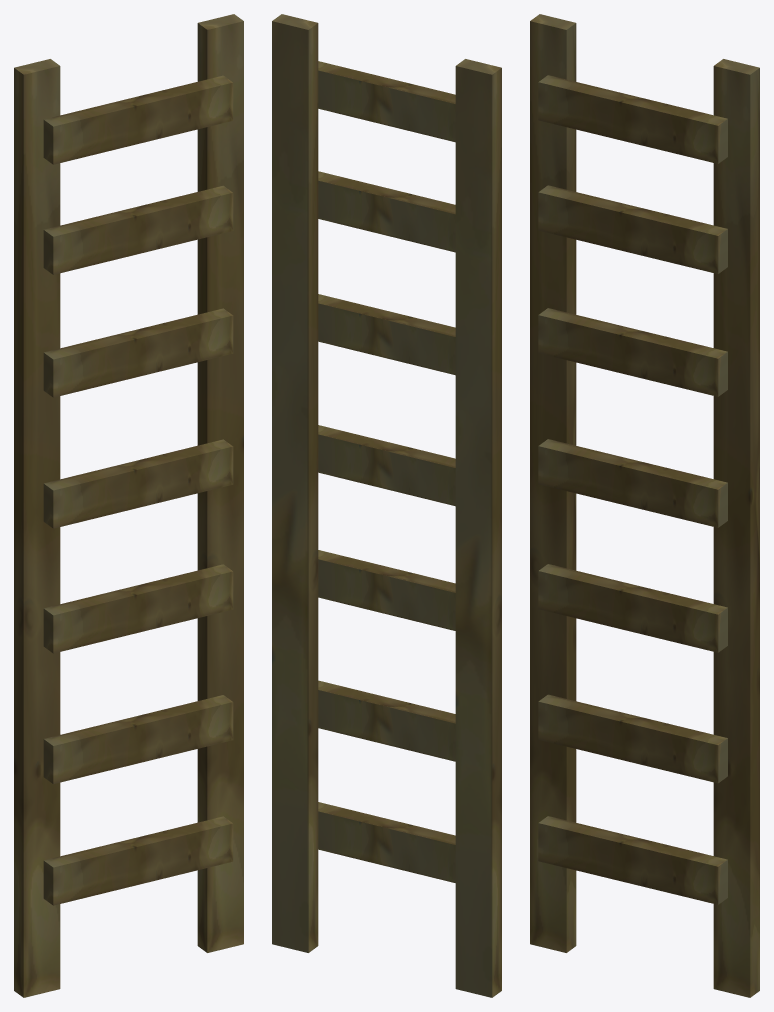
The model's file is Ladder.fbx.
The picture shows the model from 3 angles, left to right: view 1: azimuth 30°, elevation 25°; view 2: azimuth 150°, elevation 25°; view 3: azimuth 330°, elevation 25°; orthographic projection.
Visible parts, largest first — view 1: Ladder_Railing, Ladder_Railing1, Ladder_Railing2, Ladder_Railing5, Ladder_Railing6, Ladder_Railing7, Ladder_Railing4, Ladder_Railing3, Ladder_Railing8; view 2: Ladder_Railing, Ladder_Railing1, Ladder_Railing8, Ladder_Railing4, Ladder_Railing7, Ladder_Railing3, Ladder_Railing5, Ladder_Railing6, Ladder_Railing2; view 3: Ladder_Railing1, Ladder_Railing, Ladder_Railing7, Ladder_Railing8, Ladder_Railing3, Ladder_Railing4, Ladder_Railing2, Ladder_Railing5, Ladder_Railing6.
Part boxes in pixels (x1,y1,x2,y2): Ladder_Railing: (14, 59, 60, 997); Ladder_Railing1: (197, 14, 243, 952); Ladder_Railing2: (43, 816, 233, 905); Ladder_Railing5: (43, 439, 233, 528); Ladder_Railing6: (43, 308, 233, 397); Ladder_Railing7: (43, 185, 233, 274); Ladder_Railing4: (43, 564, 233, 653); Ladder_Railing3: (43, 695, 233, 783); Ladder_Railing8: (43, 75, 233, 164); Ladder_Railing: (455, 59, 501, 997); Ladder_Railing1: (272, 14, 318, 952); Ladder_Railing8: (318, 61, 455, 142); Ladder_Railing4: (318, 550, 455, 630); Ladder_Railing7: (318, 171, 455, 252); Ladder_Railing3: (318, 680, 455, 761); Ladder_Railing5: (318, 425, 455, 506); Ladder_Railing6: (318, 294, 455, 375); Ladder_Railing2: (318, 802, 455, 882); Ladder_Railing1: (713, 59, 759, 997); Ladder_Railing: (530, 14, 576, 952); Ladder_Railing7: (538, 185, 727, 273); Ladder_Railing8: (538, 75, 727, 163); Ladder_Railing3: (538, 694, 727, 783); Ladder_Railing4: (538, 564, 727, 652); Ladder_Railing2: (538, 816, 727, 904); Ladder_Railing5: (538, 439, 727, 527); Ladder_Railing6: (538, 308, 727, 396).
Bounding box in the file's own units: 5.55 × 22.23 × 0.8878.
